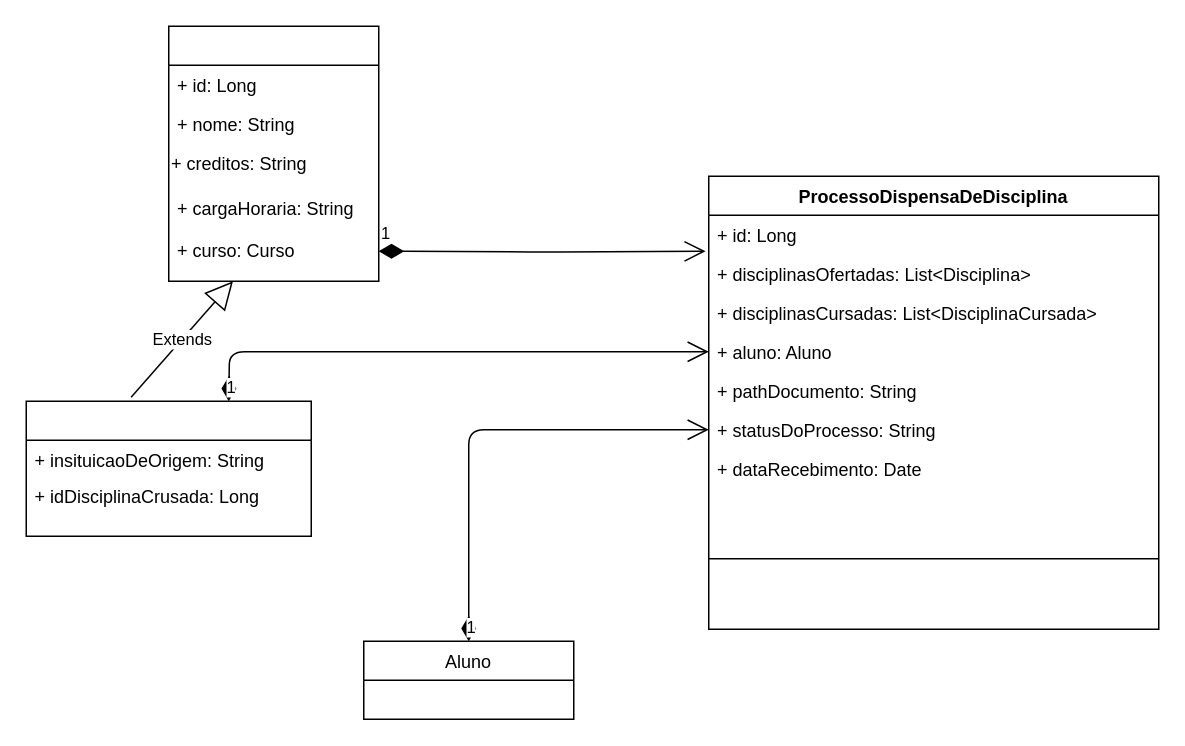
Image size: 1185x746. Some labels were removed from this diagram. Each missing label, with the box of its shape:
Disciplina: (167, 25, 379, 281)
DisciplinaCursada: (25, 400, 311, 536)
